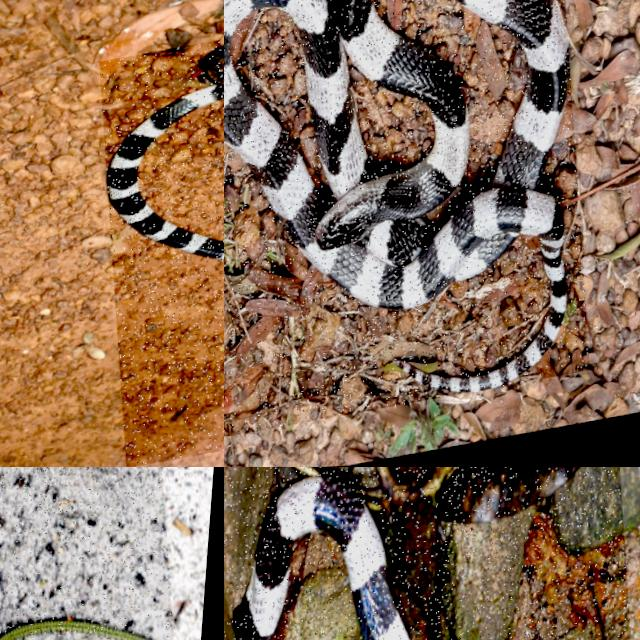Bungarus candidus: (224, 0, 568, 391), (232, 477, 408, 639), (106, 85, 223, 259)
Chrysopelea ornata: (0, 618, 150, 639)
snake: (224, 0, 568, 391), (232, 477, 408, 639), (106, 85, 223, 259), (0, 618, 150, 639)
